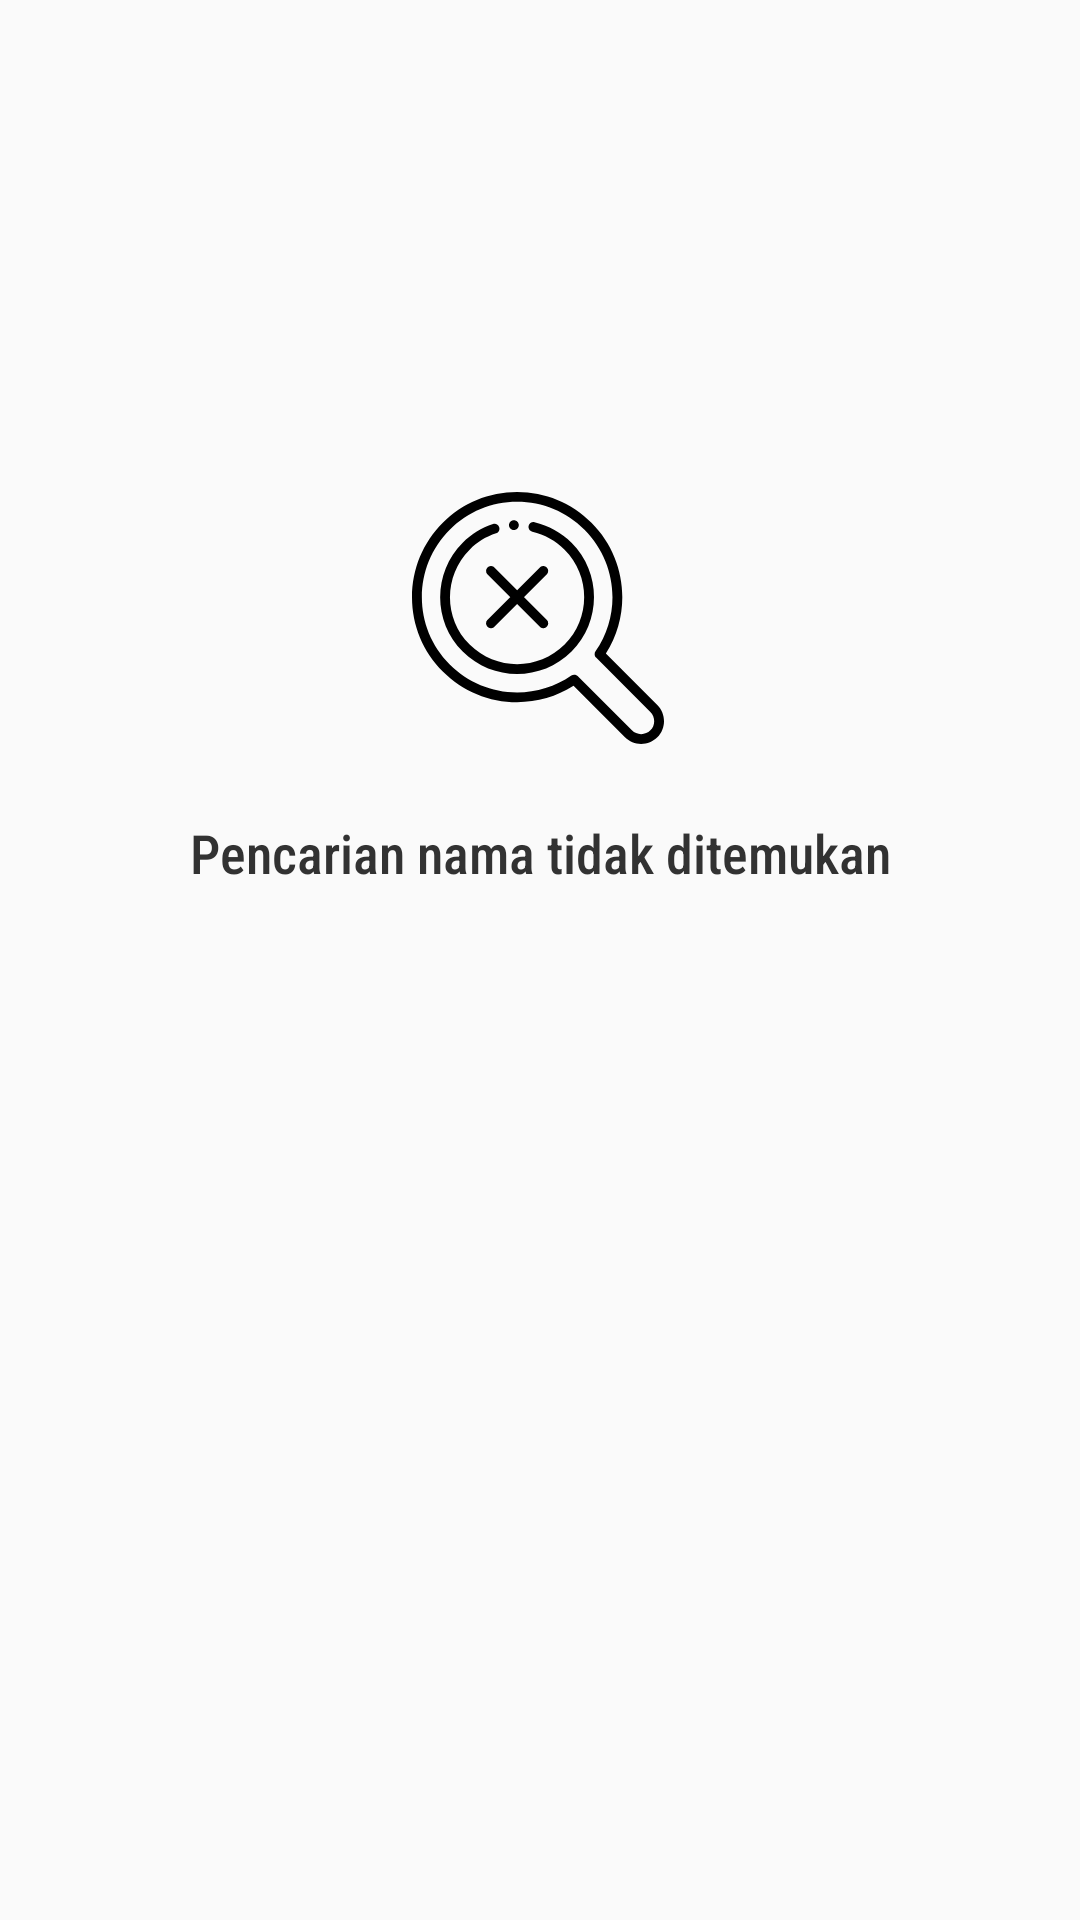

Point at icon controls on the screen. Image size 1080w x 1920h, points as [x,y].
error: [538,618]
